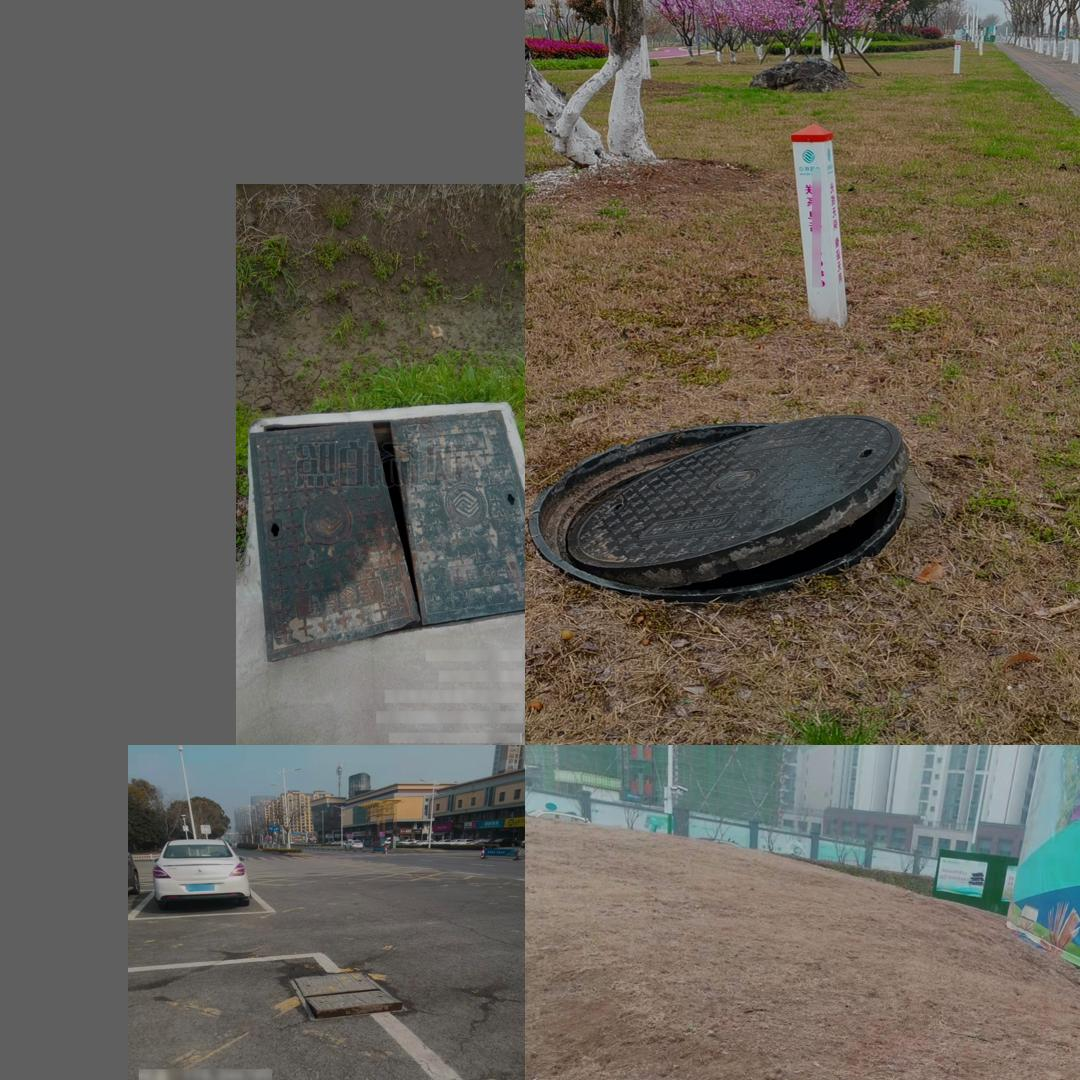uncovered: (239, 401, 524, 675), (527, 412, 912, 602), (290, 971, 407, 1022)
